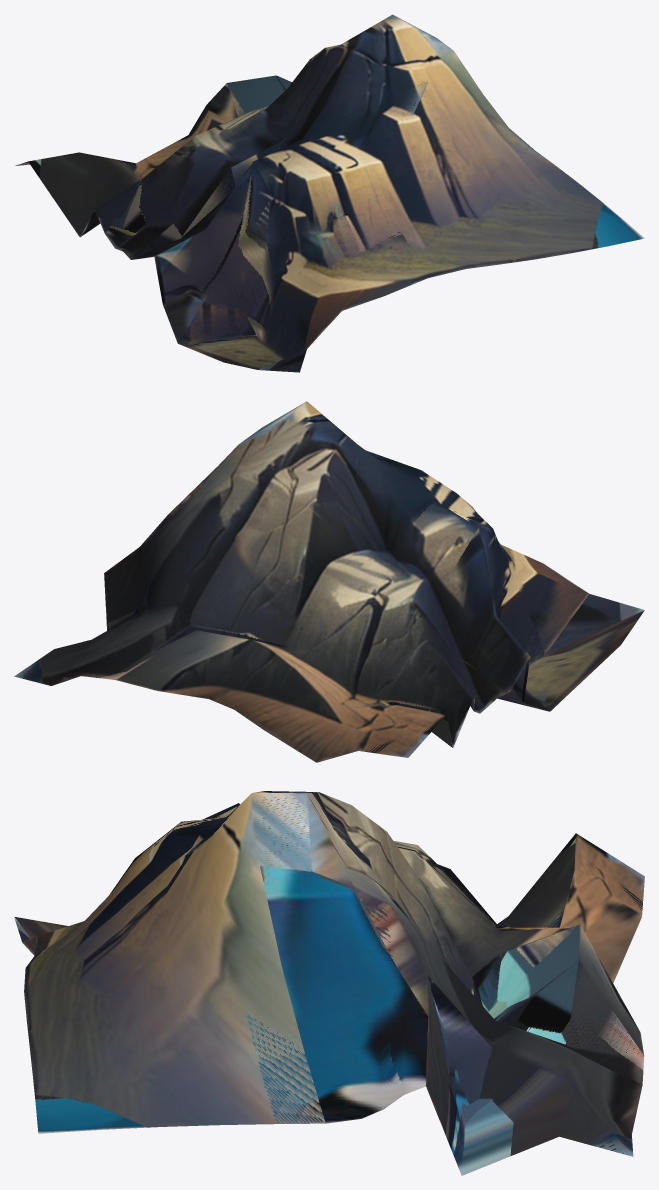
The model's file is terrain.glb.
3 views of the same model, one above another, from view 1: azimuth 30°, elevation 25°; view 2: azimuth 150°, elevation 25°; view 3: azimuth 270°, elevation 25° (orthographic). The views are drawn at different scales.
Parts seen in each view (by area): view 1: Plane; view 2: Plane; view 3: Plane.
Boxes of the visible parts, bbox=[...] form: Plane: bbox=[15, 14, 644, 372]; Plane: bbox=[14, 401, 644, 762]; Plane: bbox=[14, 791, 644, 1175].
Size of the model in its own units: 12.63 by 7.59 by 12.74.
Materials: 1 (1 with a texture image).
